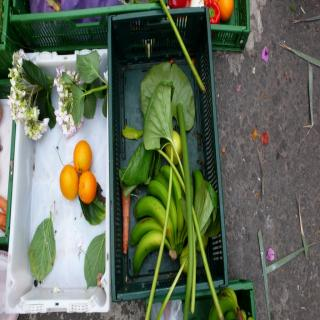Orange: (59, 166, 81, 200), (74, 171, 95, 202), (75, 136, 92, 172)
